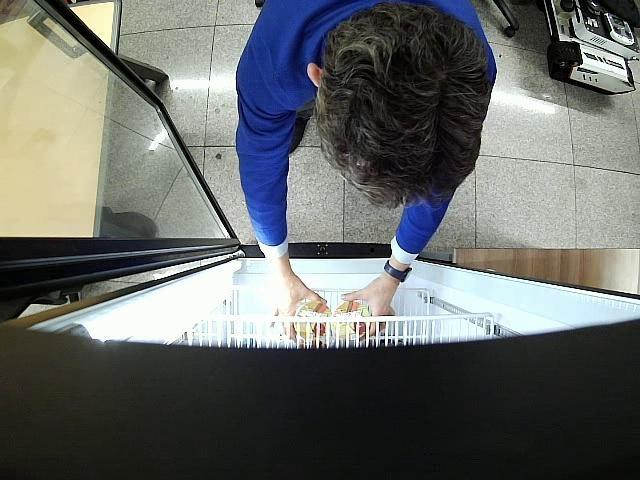04_chapagetti_S: (294, 302, 334, 342), (332, 300, 372, 340)
